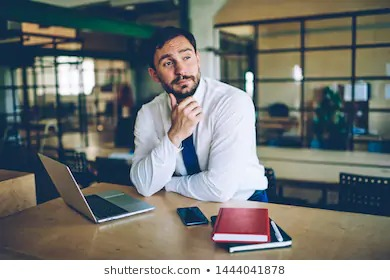F_shirt: (128, 73, 270, 202)
F_tie: (169, 104, 203, 175)
